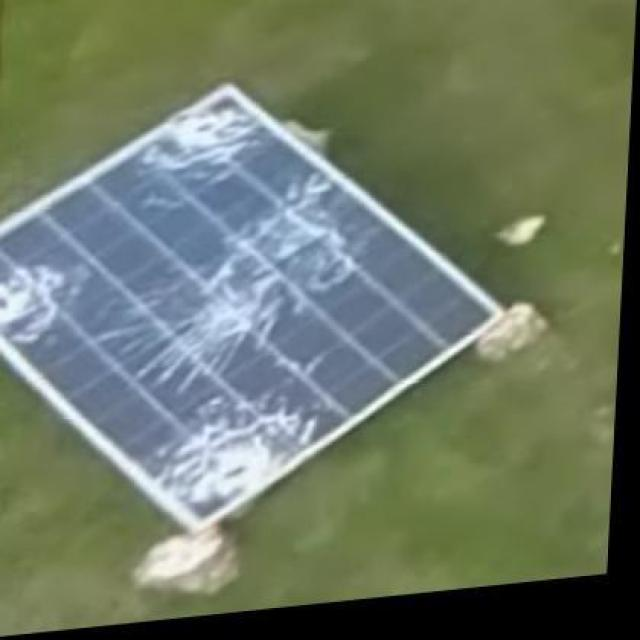cracked: (3, 84, 503, 529)
